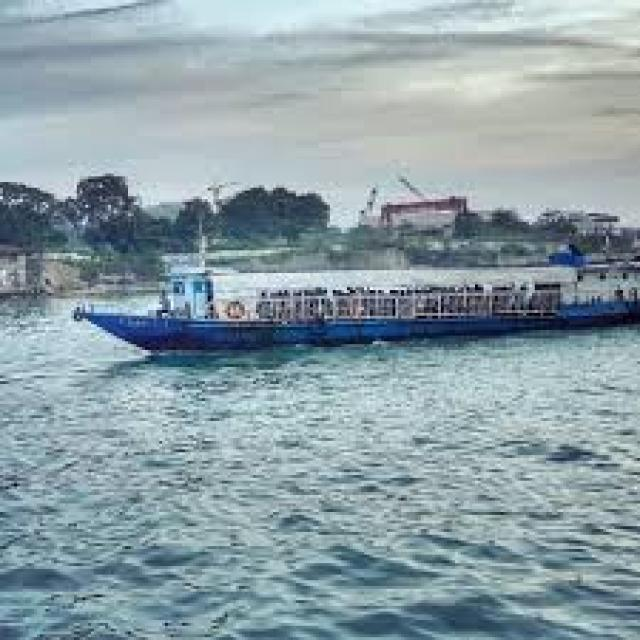houseboat: (75, 264, 640, 348)
